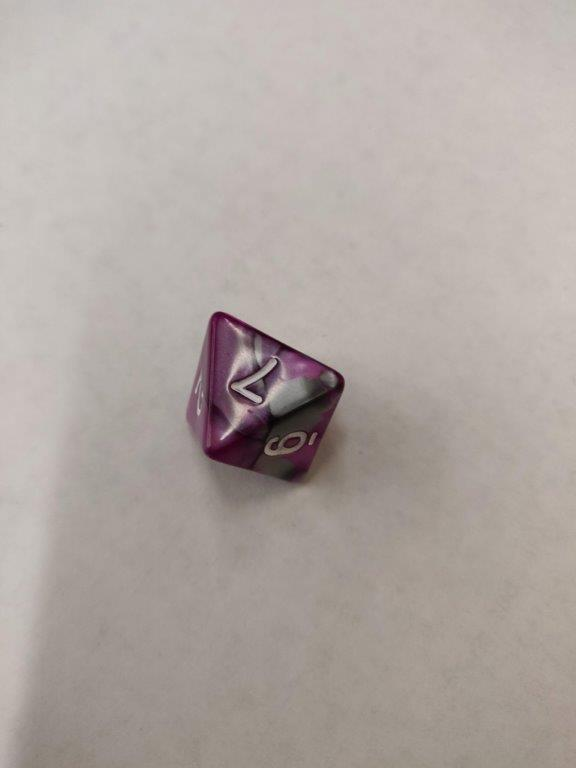d8-7: (184, 312, 346, 487)
